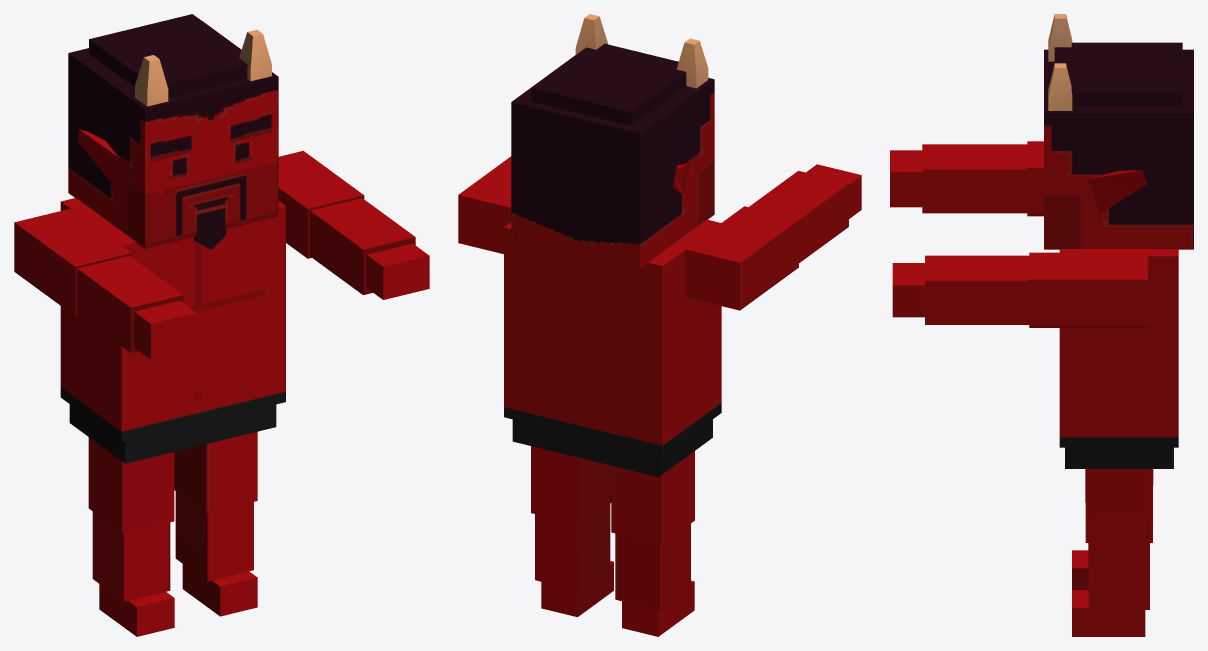
File: zombie_halloween_1_parts.glb
3 views of the same model, side by side, from view 1: azimuth 30°, elevation 25°; view 2: azimuth 150°, elevation 25°; view 3: azimuth 270°, elevation 25° (orthographic). The views are drawn at different scales.
Parts seen in each view (by area): view 1: part_head_Devil, part_body, part_hand_right, part_leg_right, part_leg_left, part_hand_left; view 2: part_body, part_head_Devil, part_hand_right, part_leg_right, part_leg_left, part_hand_left; view 3: part_head_Devil, part_body, part_hand_left, part_leg_left, part_hand_right, part_leg_right.
Boxes of the visible parts, x1,y1,x2,y2 form: part_head_Devil: [68, 14, 278, 249]; part_body: [60, 198, 285, 463]; part_hand_right: [14, 208, 196, 359]; part_leg_right: [88, 437, 174, 636]; part_leg_left: [174, 431, 257, 616]; part_hand_left: [278, 150, 429, 299]; part_body: [504, 219, 721, 477]; part_head_Devil: [511, 14, 714, 268]; part_hand_right: [685, 164, 861, 310]; part_leg_right: [611, 451, 694, 636]; part_leg_left: [531, 446, 613, 617]; part_hand_left: [458, 156, 511, 253]; part_head_Devil: [1044, 14, 1193, 249]; part_body: [1059, 249, 1178, 468]; part_hand_left: [892, 252, 1147, 327]; part_leg_left: [1072, 469, 1152, 636]; part_hand_right: [890, 141, 1043, 216]; part_leg_right: [1072, 469, 1153, 589].
Size of the model in its own units: 1.55 by 2.96 by 1.44.
Materials: 1 (1 with a texture image).
